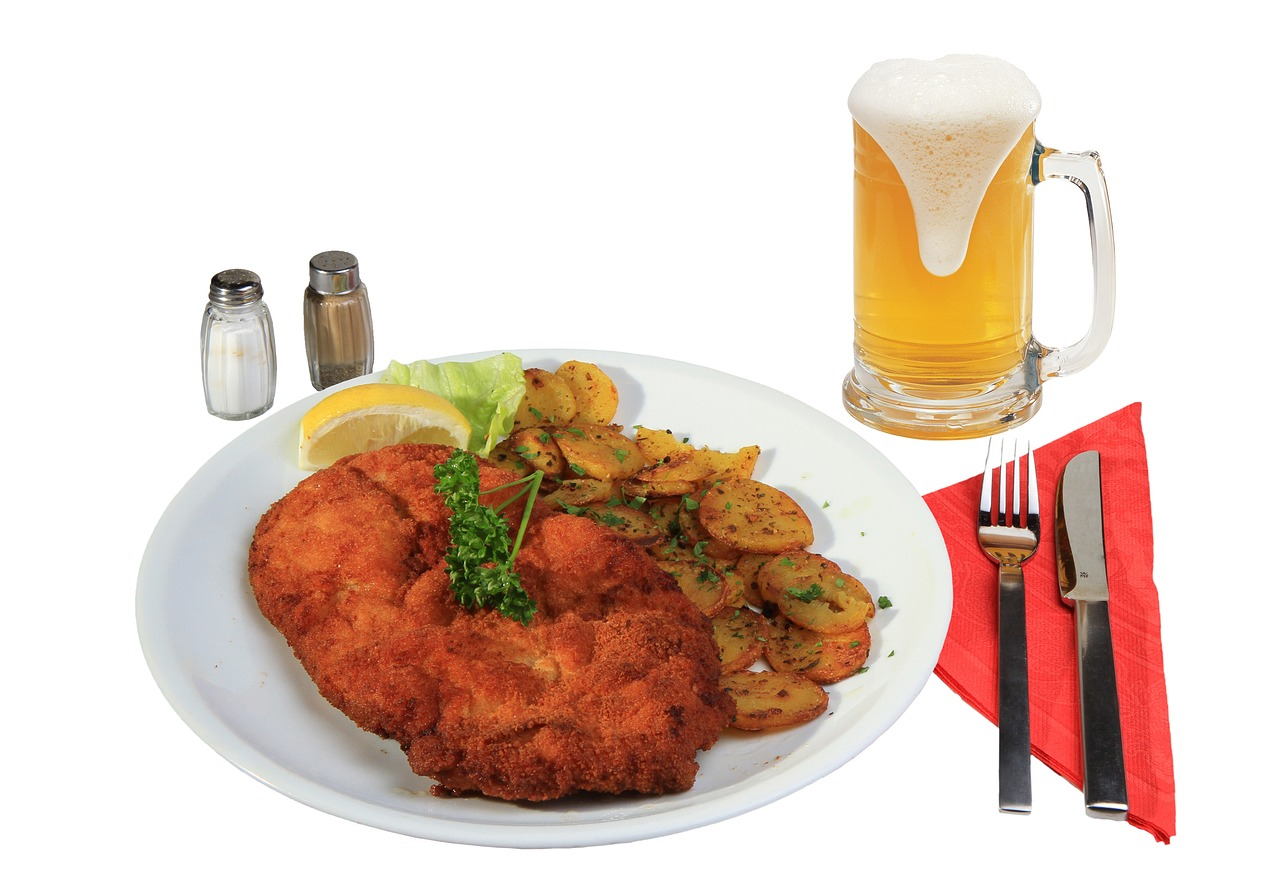alcohol: (838, 53, 1111, 438)
knife: (1055, 444, 1137, 820)
